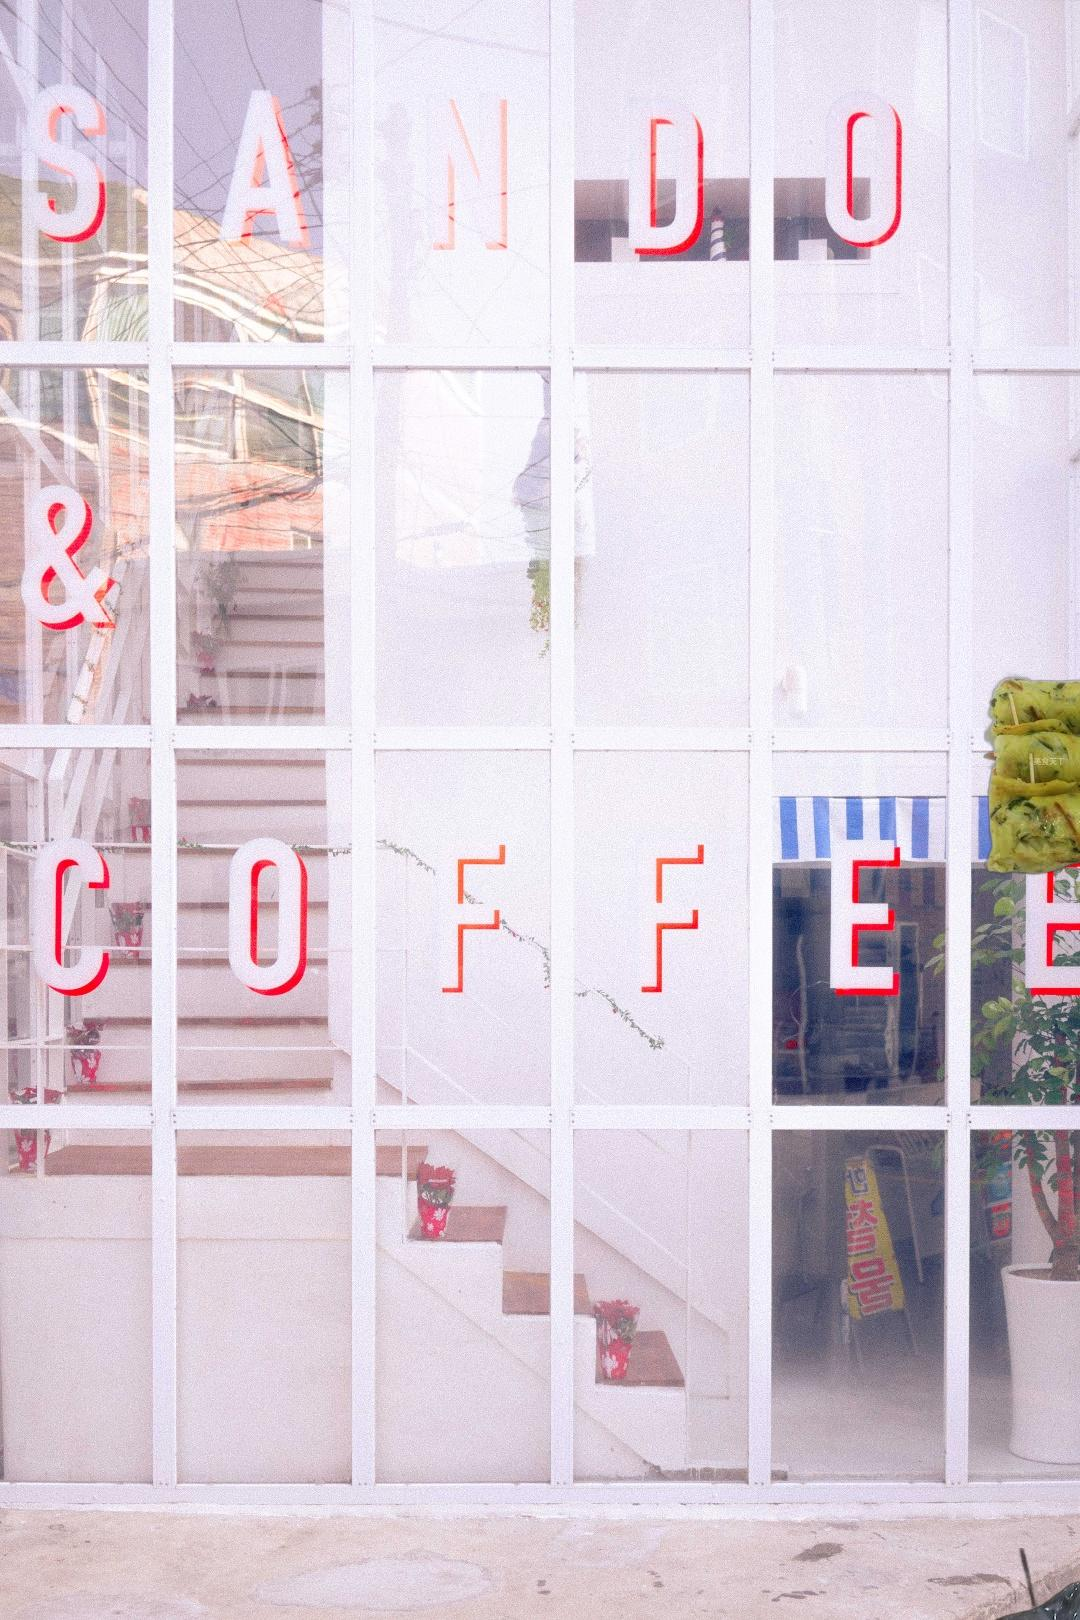biological: (981, 670, 1080, 887)
plastic-bottles: (920, 1548, 1080, 1620)
